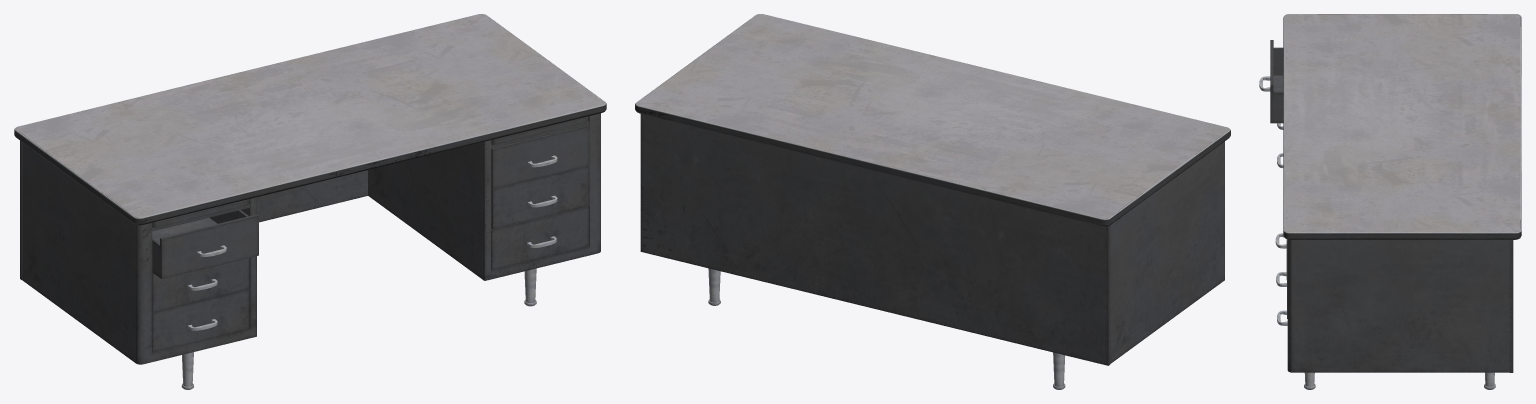
Rendered from metal_office_desk.gltf.
The picture shows the model from 3 angles, left to right: view 1: azimuth 30°, elevation 25°; view 2: azimuth 150°, elevation 25°; view 3: azimuth 270°, elevation 25°; orthographic projection. The views are drawn at different scales.
Parts seen in each view (by area): view 1: metal_office_desk, metal_office_desk_drawer_04, metal_office_desk_drawer_01, metal_office_desk_drawer_02, metal_office_desk_drawer_03, metal_office_desk_drawer_06, metal_office_desk_drawer_05, metal_office_desk_tray_01, metal_office_desk_tray_02; view 2: metal_office_desk; view 3: metal_office_desk, metal_office_desk_drawer_04.
Boxes of the visible parts, x1,y1,x2,y2 form: metal_office_desk: (14, 14, 606, 389); metal_office_desk_drawer_04: (152, 210, 258, 278); metal_office_desk_drawer_01: (491, 125, 589, 189); metal_office_desk_drawer_02: (491, 166, 589, 229); metal_office_desk_drawer_03: (491, 206, 588, 269); metal_office_desk_drawer_06: (152, 289, 249, 352); metal_office_desk_drawer_05: (152, 258, 249, 312); metal_office_desk_tray_01: (152, 199, 249, 227); metal_office_desk_tray_02: (491, 116, 588, 144); metal_office_desk: (635, 14, 1230, 389); metal_office_desk: (1283, 14, 1521, 389); metal_office_desk_drawer_04: (1259, 40, 1283, 123).
Bounding box in the file's own units: 2 × 0.7875 × 1.01.
Materials: 1 (1 with a texture image).
